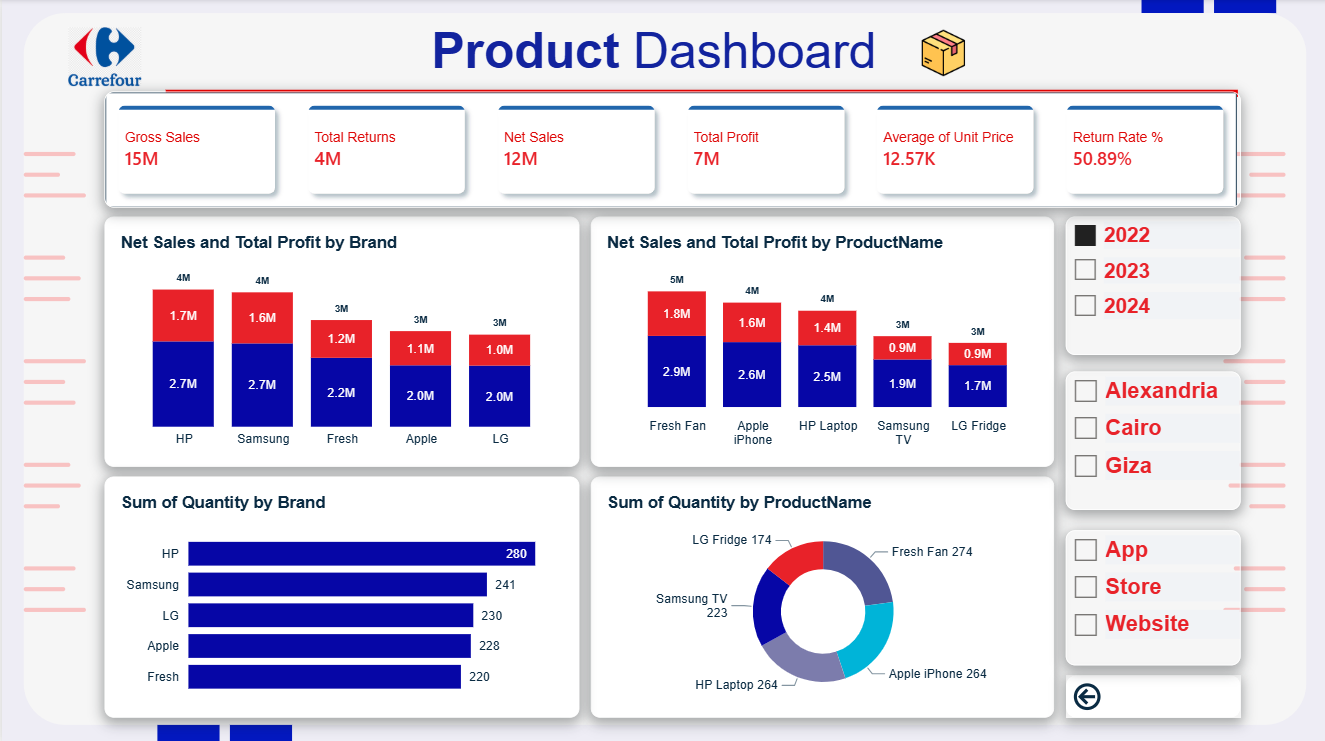

Layout of this report page (visuals, bound fields, positions):
{"tool":"powerbi","page":{"name":"Products","canvas":[1280,720],"ordinal":1},"visuals":[{"type":"donutChart","fields":{"Category":["Sheet1.ProductName"],"Y":["Sum(Sheet1.Quantity)"]},"box":[510.5,487.1,516,233.3],"z":0},{"type":"textbox","box":[197.6,12.3,863.1,76.8],"z":1000},{"type":"columnChart","fields":{"Category":["Sheet1.ProductName"],"Y":["Sheet1.Net Sales","Sheet1.Total Profit"]},"box":[510.5,236,516,241.5],"z":2000},{"type":"columnChart","fields":{"Category":["Sheet1.Brand"],"Y":["Sheet1.Net Sales","Sheet1.Total Profit"]},"box":[0,236,495.4,241.5],"z":3000},{"type":"slicer","fields":{"Values":["Sheet1.StoreCity"]},"box":[1040.1,382.8,215.4,133.1],"z":4000},{"type":"slicer","fields":{"Values":["Sheet1.OrderDate.Variation.Date Hierarchy.Year"]},"box":[1040.1,236,215.4,134.5],"z":5000},{"type":"actionButton","box":[1040.1,669.6,215.4,50.8],"z":6000},{"type":"clusteredBarChart","fields":{"Category":["Sheet1.Brand"],"Y":["Sum(Sheet1.Quantity)"]},"box":[0,487.1,495.4,233.3],"z":7000},{"type":"image","box":[861.8,5.5,93.3,78.2],"z":8000},{"type":"image","box":[0,0,197.6,98.8],"z":9000},{"type":"slicer","fields":{"Values":["Sheet1.OrderChannel"]},"box":[1040.1,528.3,215.4,130.4],"z":10000},{"type":"cardVisual","fields":{"Data":["Sheet1.Measuer 1","Sheet1.Total Returns","Sheet1.Net Sales","Sheet1.Total Profit","Avg(Sheet1.Unit Price)","Sheet1.Return Rate %"]},"box":[0,89.2,1261.1,129],"z":11000}]}

Visuals, with their boxes in screenshot pixels (x1, y1, x2, y2), scaled from the page's 1280x720 canvas onto the 1325x741 screenshot:
donutChart - Sheet1.ProductName x Sum(Sheet1.Quantity): rect(528, 501, 1063, 740)
textbox: rect(205, 13, 1098, 92)
columnChart - Sheet1.ProductName x Sheet1.Net Sales: rect(528, 243, 1063, 491)
columnChart - Sheet1.Brand x Sheet1.Net Sales: rect(0, 243, 513, 491)
slicer - Sheet1.StoreCity: rect(1077, 394, 1300, 531)
slicer - Sheet1.OrderDate.Variation.Date Hierarchy.Year: rect(1077, 243, 1300, 381)
actionButton: rect(1077, 689, 1300, 740)
clusteredBarChart - Sheet1.Brand x Sum(Sheet1.Quantity): rect(0, 501, 513, 740)
image: rect(892, 6, 989, 86)
image: rect(0, 0, 205, 102)
slicer - Sheet1.OrderChannel: rect(1077, 544, 1300, 678)
cardVisual - Sheet1.Measuer 1 x Sheet1.Total Returns: rect(0, 92, 1305, 225)
